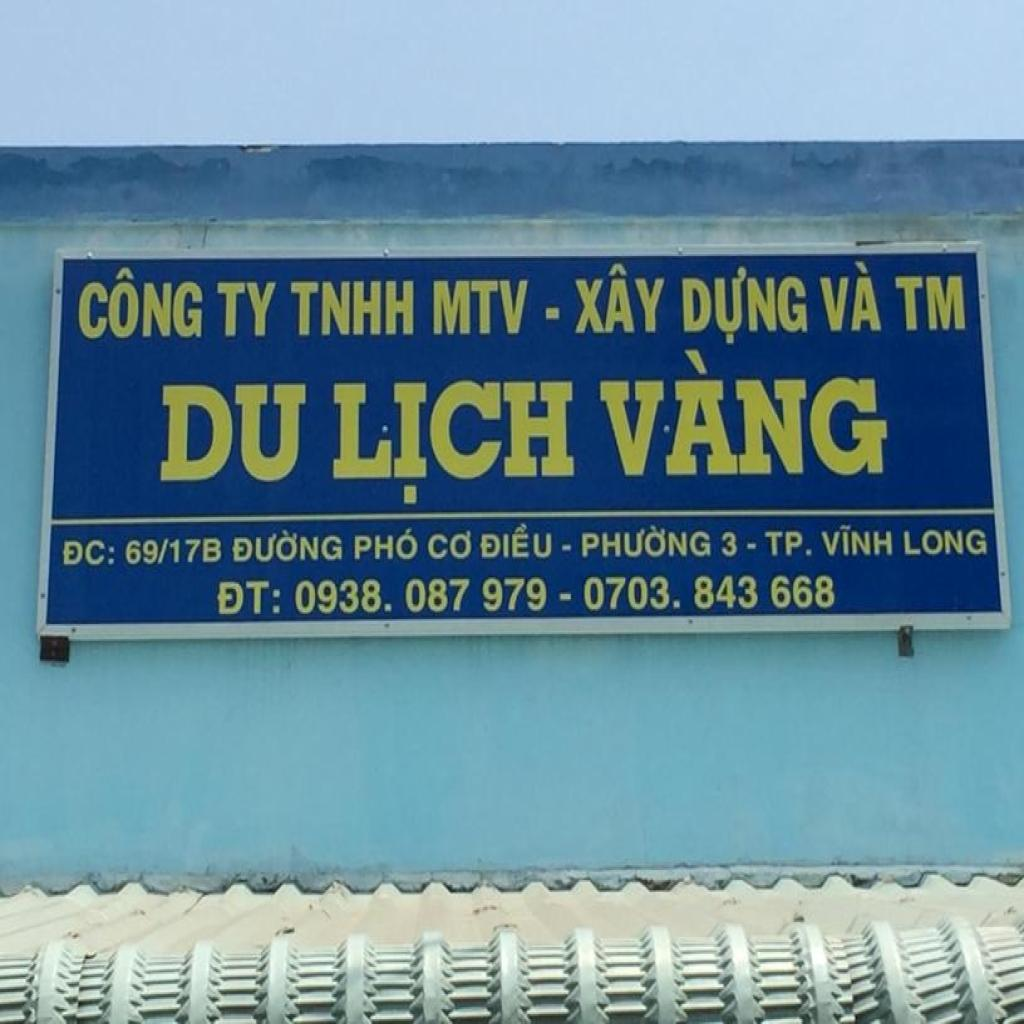text: (584, 343, 892, 480), (328, 376, 577, 510), (154, 376, 312, 487), (292, 572, 554, 621), (72, 256, 210, 345), (674, 263, 812, 346), (285, 266, 419, 341), (570, 256, 675, 345), (425, 269, 536, 345), (810, 253, 890, 341), (578, 518, 716, 566), (210, 269, 284, 348), (890, 268, 972, 336), (123, 524, 226, 572), (230, 524, 344, 567), (898, 524, 992, 564), (211, 570, 286, 620), (477, 519, 560, 564), (352, 519, 420, 567), (817, 520, 898, 560), (58, 529, 116, 574), (759, 522, 821, 562), (422, 524, 477, 562), (715, 524, 743, 560)
